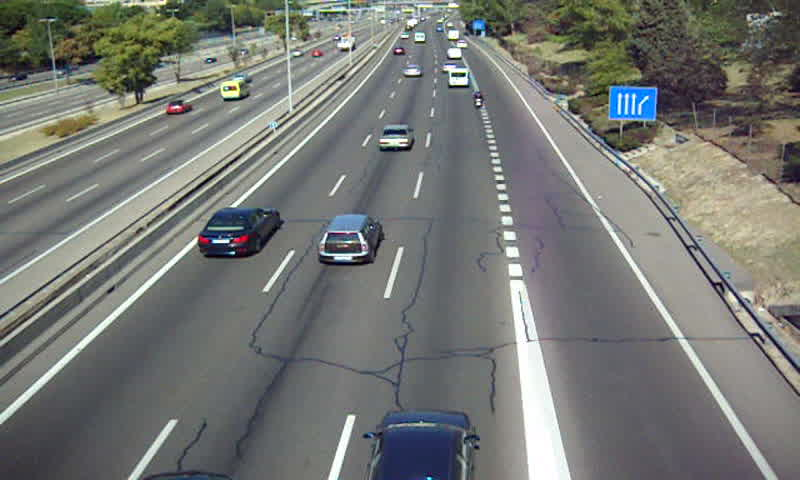car: (366, 410, 473, 480), (196, 208, 278, 257), (316, 214, 382, 263), (378, 124, 413, 150), (404, 63, 421, 77)
motorcycle: (473, 89, 486, 108)
van: (448, 68, 469, 88), (448, 48, 464, 60)
